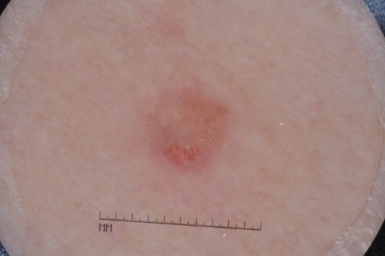seborrheic keratosis: (125, 74, 247, 180)
